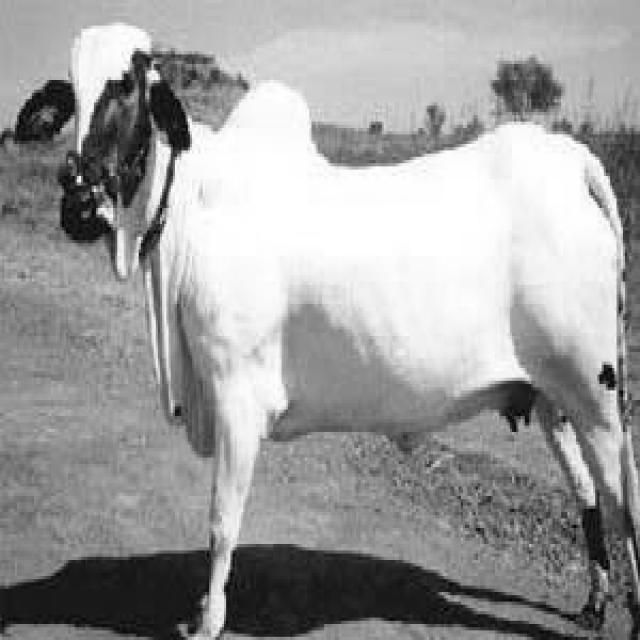Cow: (55, 19, 638, 637)
